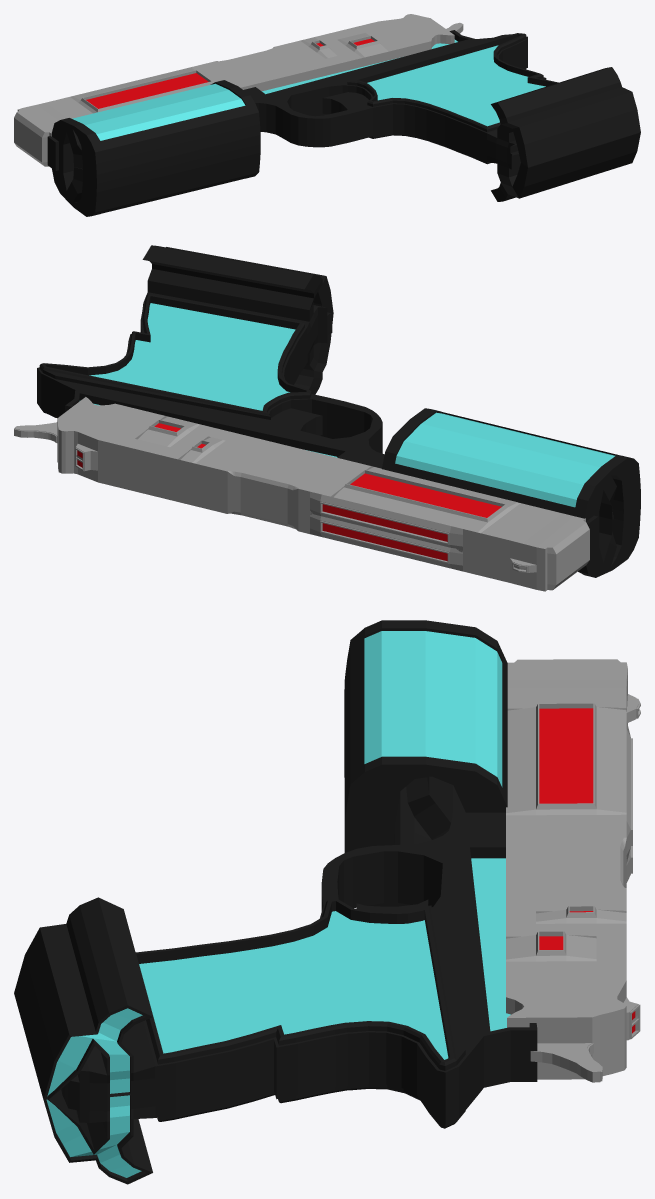
The model's file is ColtPistolDigital.fbx.
The picture shows the model from 3 angles, top to bottom: view 1: azimuth 30°, elevation 25°; view 2: azimuth 150°, elevation 25°; view 3: azimuth 270°, elevation 25°; orthographic projection. The views are drawn at different scales.
Parts seen in each view (by area): view 1: Handle, GunShaft; view 2: Handle, GunShaft; view 3: Handle, GunShaft.
Boxes of the visible parts, x1,y1,x2,y2 form: Handle: [47, 30, 640, 216]; GunShaft: [14, 14, 463, 166]; Handle: [37, 245, 640, 577]; GunShaft: [14, 397, 589, 591]; Handle: [14, 620, 537, 1184]; GunShaft: [506, 659, 640, 1082].
Size of the model in its own units: 471 by 95.67 by 303.
